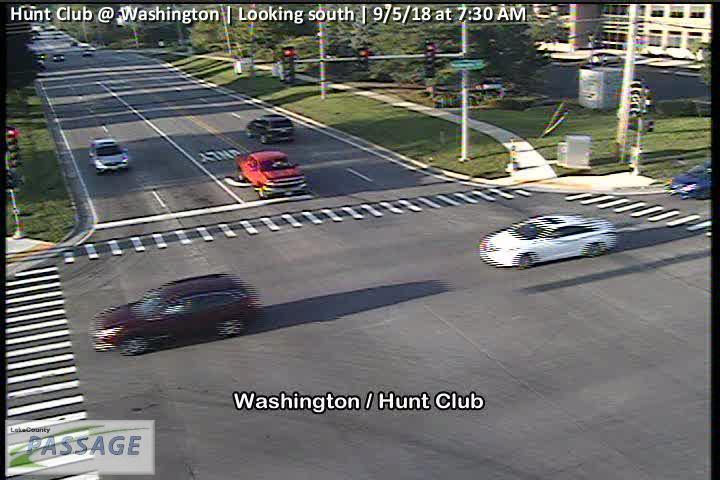SUV: (88, 274, 252, 357)
Sedan: (479, 213, 616, 269), (236, 150, 308, 196), (670, 160, 711, 202), (88, 139, 128, 173), (246, 114, 294, 142)
